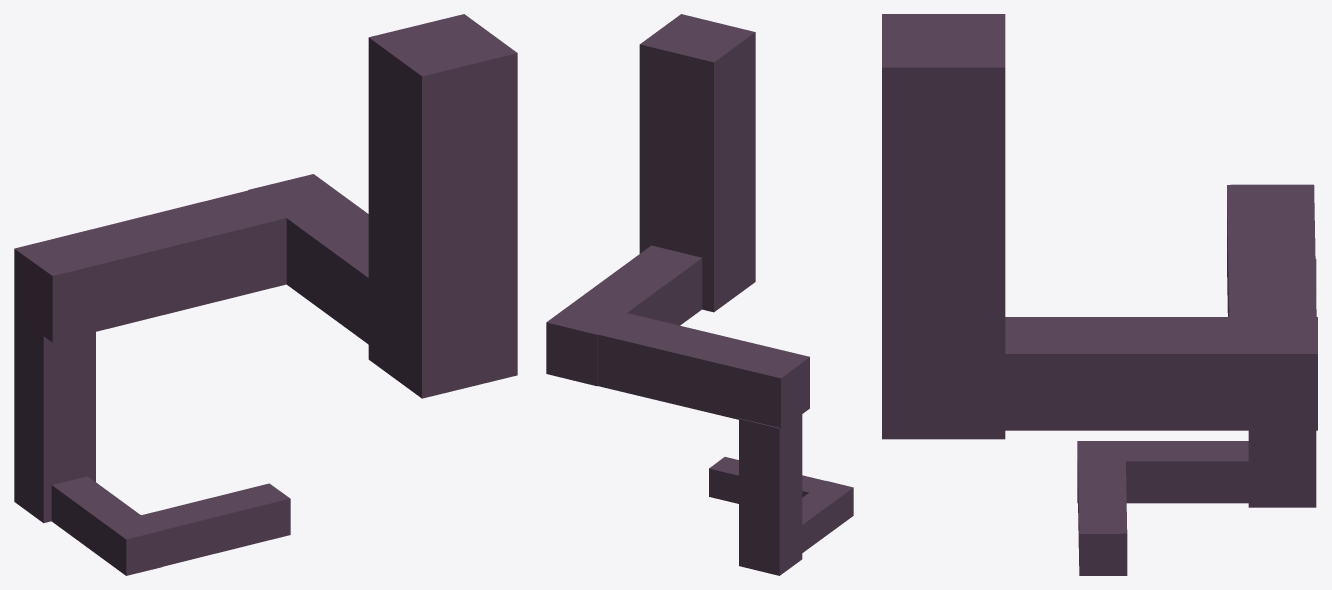
3 views of the same model, side by side, from view 1: azimuth 30°, elevation 25°; view 2: azimuth 150°, elevation 25°; view 3: azimuth 270°, elevation 25° (orthographic). The views are drawn at different scales.
Visible parts, largest first — view 1: Cube.032, Cube.050, Cube.053, Cube.049, Cube.051, Cube.052; view 2: Cube.032, Cube.050, Cube.049, Cube.053, Cube.052, Cube.051; view 3: Cube.032, Cube.049, Cube.050, Cube.052, Cube.051, Cube.053.
Boxes of the visible parts, x1,y1,x2,y2 form: Cube.032: [368, 14, 517, 398]; Cube.050: [14, 190, 286, 342]; Cube.053: [14, 315, 95, 523]; Cube.049: [248, 174, 368, 344]; Cube.051: [141, 483, 290, 566]; Cube.052: [51, 476, 162, 575]; Cube.032: [639, 14, 755, 312]; Cube.050: [597, 313, 809, 429]; Cube.049: [546, 245, 702, 386]; Cube.053: [739, 414, 802, 575]; Cube.052: [802, 481, 853, 552]; Cube.051: [709, 457, 824, 503]; Cube.032: [882, 14, 1005, 439]; Cube.049: [1005, 317, 1317, 430]; Cube.050: [1227, 184, 1316, 316]; Cube.052: [1077, 441, 1248, 503]; Cube.051: [1078, 461, 1127, 575]; Cube.053: [1248, 259, 1316, 507].
Size of the model in its own units: 1.34 by 2.06 by 1.38.
